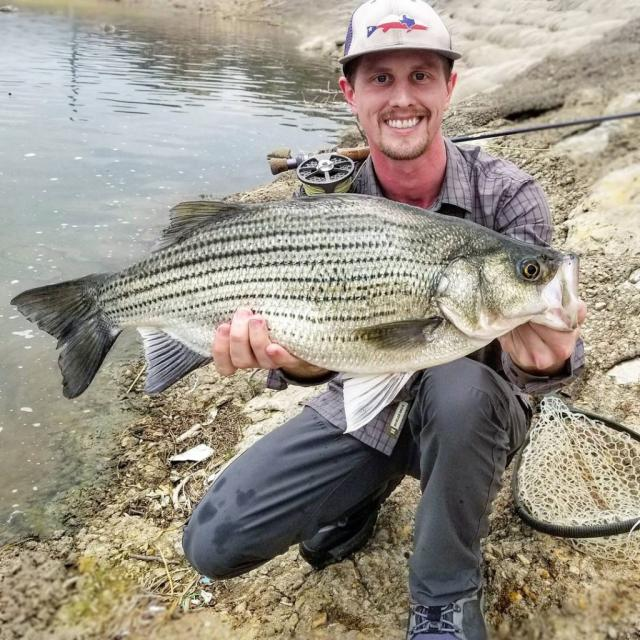Bass - Striped: (11, 194, 581, 397)
